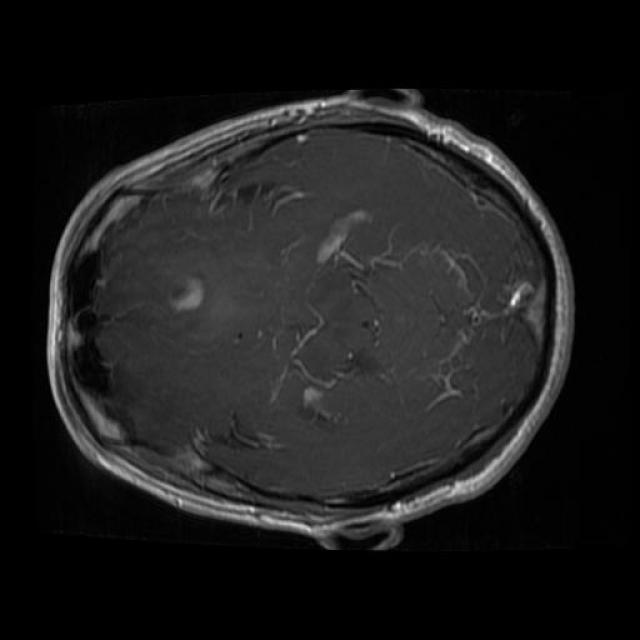Glioma: (168, 278, 204, 312)
